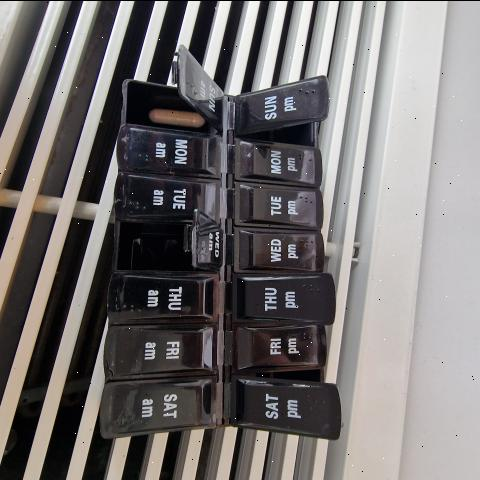Open: (118, 215, 214, 273), (125, 80, 220, 135), (238, 116, 325, 147), (250, 368, 322, 379)
